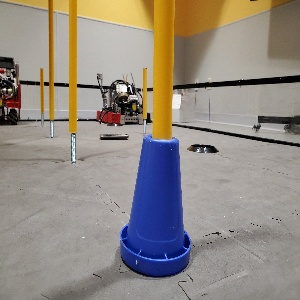Blue_1: (118, 130, 191, 278)
